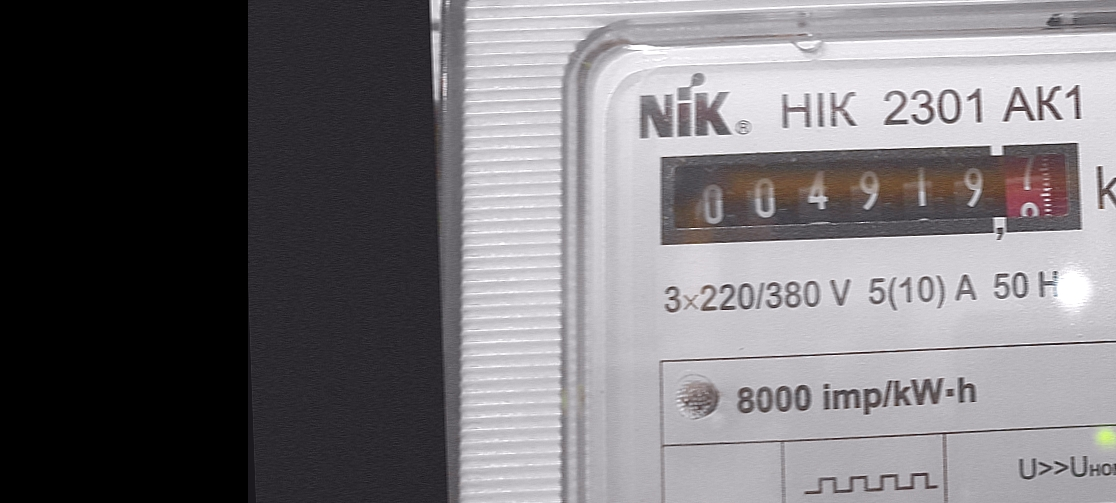0: (750, 172, 778, 218), (700, 179, 725, 223)
1: (913, 161, 929, 207)
4: (803, 165, 829, 209)
7: (1013, 151, 1038, 191)
9: (960, 161, 985, 209), (857, 166, 881, 211)
screen: (646, 125, 1099, 261)
